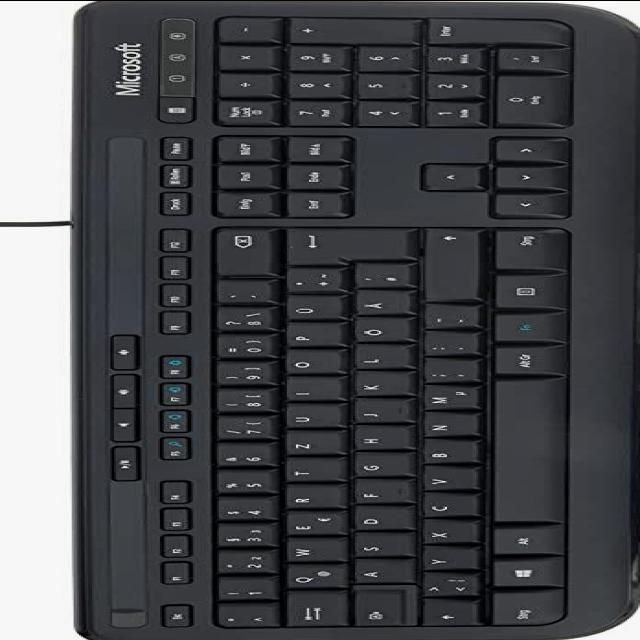0: (208, 337, 268, 361)
1: (208, 580, 270, 603)
2: (208, 553, 270, 577)
3: (206, 527, 270, 549)
4: (206, 500, 270, 522)
5: (206, 473, 268, 497)
6: (206, 445, 268, 469)
7: (206, 418, 268, 442)
8: (206, 391, 268, 415)
9: (206, 364, 268, 388)
a: (344, 561, 410, 585)
accent: (208, 283, 267, 305)
ae: (346, 292, 406, 316)
alt-left: (482, 529, 556, 557)
altgr-right: (484, 348, 560, 377)
b: (413, 442, 473, 466)
c: (413, 495, 473, 519)
caret: (206, 607, 272, 631)
comma: (414, 361, 474, 385)
d: (344, 508, 408, 532)
del: (204, 230, 270, 278)
e: (276, 514, 340, 538)
enter: (278, 230, 410, 266)
f: (346, 481, 408, 505)
g: (344, 454, 406, 478)
h: (344, 428, 406, 452)
hash: (346, 266, 408, 290)
i: (276, 380, 336, 402)
j: (344, 402, 408, 424)
k: (346, 373, 406, 397)
keyboard: (66, 1, 640, 640)
l: (346, 346, 406, 370)
less: (412, 575, 474, 599)
m: (412, 388, 474, 412)
minus: (414, 308, 473, 332)
n: (413, 415, 473, 439)
o: (276, 352, 336, 376)
oe: (346, 320, 406, 344)
p: (276, 325, 336, 349)
plus: (276, 270, 336, 294)
point: (414, 334, 473, 358)
q: (276, 567, 340, 591)
r: (276, 487, 338, 511)
s: (346, 535, 408, 559)
shift-left: (414, 602, 473, 628)
shift-lock: (348, 592, 402, 629)
shift-right: (416, 231, 475, 303)
space: (480, 381, 563, 523)
ss: (206, 310, 268, 334)
strg-left: (482, 593, 559, 629)
strg-right: (486, 229, 563, 272)
t: (276, 461, 336, 483)
tab: (276, 595, 342, 629)
u: (276, 406, 336, 430)
ue: (276, 298, 338, 322)
v: (413, 468, 473, 492)
w: (274, 542, 340, 564)
x: (413, 522, 473, 545)
y: (412, 549, 474, 572)
z: (276, 433, 336, 457)
